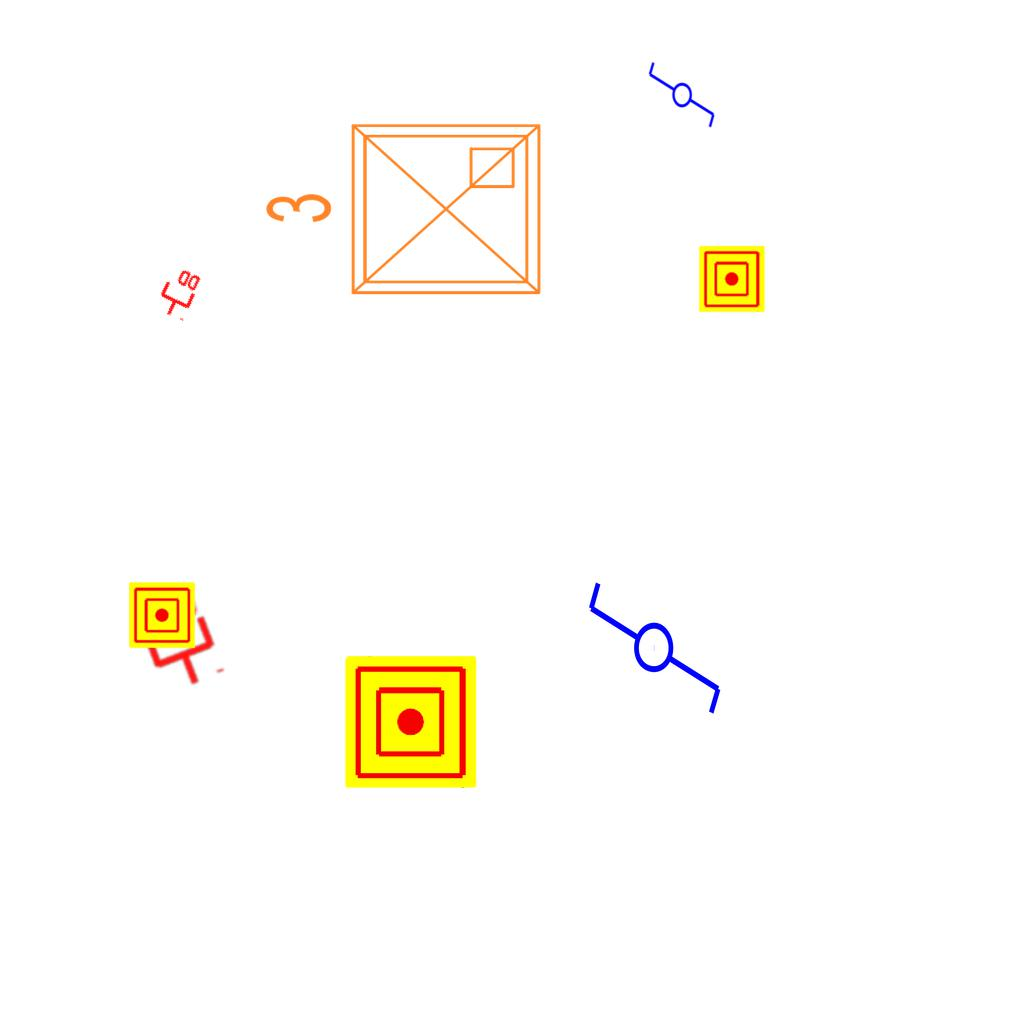Datenanschluss_zweifach: (125, 578, 228, 699), (151, 262, 205, 323)
Einbaudownlights_LED_Konferenzraeume: (255, 109, 555, 317)
NAM-Nichtautomatischer_Melder: (345, 656, 477, 788), (699, 246, 765, 312), (129, 582, 195, 648)
Wechselschalter: (584, 561, 728, 718), (645, 60, 717, 138)
